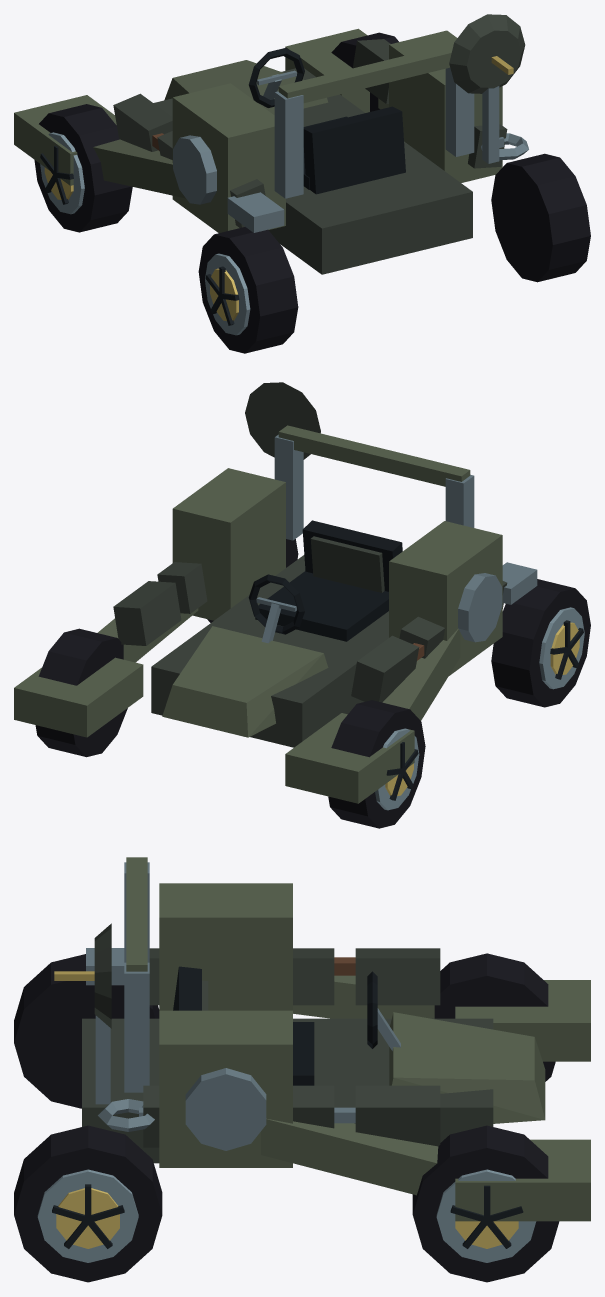
The model's file is kart.glb.
3 views of the same model, one above another, from view 1: azimuth 30°, elevation 25°; view 2: azimuth 150°, elevation 25°; view 3: azimuth 270°, elevation 25° (orthographic). The views are drawn at different scales.
Parts seen in each view (by area): view 1: identity-mech-mech-articulated-limbs-and-open-harness, wheel-rear-right, wheel-rear-left, identity-mech-driver-cockpit, wheel-front-left, identity-mech-motif-radar, identity-mech-motif-armor, identity-mech-motif-tools, wheel-front-right; view 2: identity-mech-mech-articulated-limbs-and-open-harness, identity-mech-driver-cockpit, wheel-rear-left, identity-mech-motif-armor, wheel-front-left, wheel-front-right, identity-mech-motif-radar, identity-mech-motif-tools; view 3: identity-mech-mech-articulated-limbs-and-open-harness, wheel-rear-right, identity-mech-motif-armor, wheel-front-right, wheel-rear-left, wheel-front-left, identity-mech-driver-cockpit, identity-mech-motif-radar, identity-mech-motif-tools.
Boxes of the visible parts, x1=… form: identity-mech-mech-articulated-limbs-and-open-harness: x1=14, y1=28, x2=502, y2=274; wheel-rear-right: x1=491, y1=153, x2=590, y2=282; wheel-rear-left: x1=198, y1=227, x2=298, y2=353; identity-mech-driver-cockpit: x1=248, y1=48, x2=405, y2=194; wheel-front-left: x1=34, y1=104, x2=132, y2=232; identity-mech-motif-radar: x1=449, y1=14, x2=525, y2=163; identity-mech-motif-armor: x1=113, y1=39, x2=507, y2=227; identity-mech-motif-tools: x1=152, y1=133, x2=528, y2=232; wheel-front-right: x1=331, y1=32, x2=398, y2=111; identity-mech-mech-articulated-limbs-and-open-harness: x1=14, y1=425, x2=502, y2=803; identity-mech-driver-cockpit: x1=248, y1=520, x2=402, y2=643; wheel-rear-left: x1=491, y1=579, x2=590, y2=707; identity-mech-motif-armor: x1=113, y1=562, x2=507, y2=702; wheel-front-left: x1=328, y1=700, x2=425, y2=828; wheel-front-right: x1=35, y1=628, x2=127, y2=757; identity-mech-motif-radar: x1=245, y1=382, x2=320, y2=459; identity-mech-motif-tools: x1=413, y1=562, x2=537, y2=660; identity-mech-mech-articulated-limbs-and-open-harness: x1=82, y1=857, x2=590, y2=1221; wheel-rear-right: x1=14, y1=1125, x2=162, y2=1282; identity-mech-motif-armor: x1=143, y1=948, x2=440, y2=1147; wheel-front-right: x1=412, y1=1125, x2=559, y2=1282; wheel-rear-left: x1=14, y1=954, x2=159, y2=1108; wheel-front-left: x1=434, y1=953, x2=555, y2=1081; identity-mech-driver-cockpit: x1=173, y1=966, x2=400, y2=1085; identity-mech-motif-radar: x1=54, y1=923, x2=111, y2=1104; identity-mech-motif-tools: x1=86, y1=948, x2=355, y2=1131.
Bounding box in the file's own units: 2.29 × 1.65 × 2.72.
